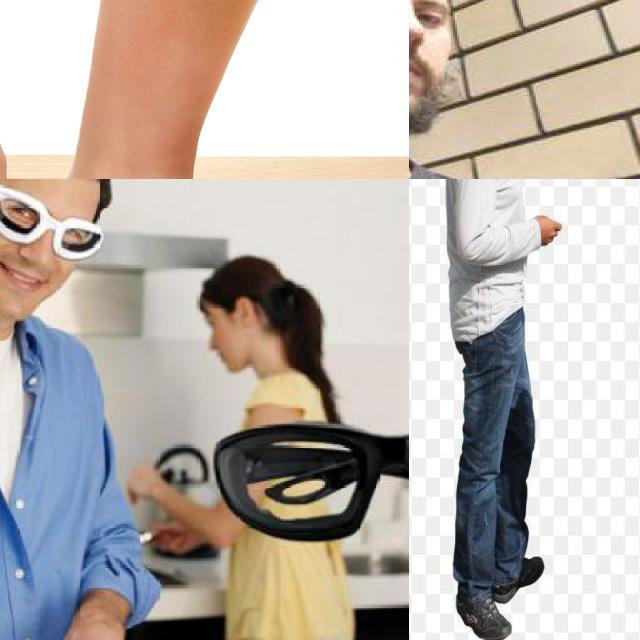face_nomask: (409, 0, 452, 136), (199, 313, 248, 376)
glasses: (0, 179, 106, 265)
hand_noglove: (150, 511, 207, 560), (523, 197, 567, 260), (119, 457, 164, 502)
head_nohelmet: (190, 250, 283, 309)
person: (176, 250, 367, 640), (0, 179, 156, 640), (444, 179, 562, 640)
